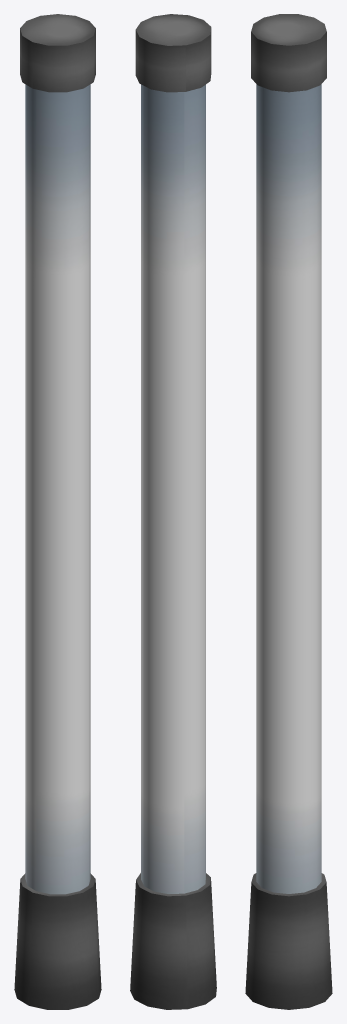
Rendered from neonlight_stand.fbx.
The picture shows the model from 3 angles, left to right: view 1: azimuth 90°, elevation 25°; view 2: azimuth 150°, elevation 25°; view 3: azimuth 270°, elevation 25°; orthographic projection.
Parts seen in each view (by area): view 1: pCylinder6; view 2: pCylinder6; view 3: pCylinder6.
Part boxes in pixels (x1,y1,x2,y2): pCylinder6: (14,14,101,1009); pCylinder6: (130,14,216,1009); pCylinder6: (245,14,332,1009).
Size of the model in its own units: 32.64 by 401 by 32.88.
